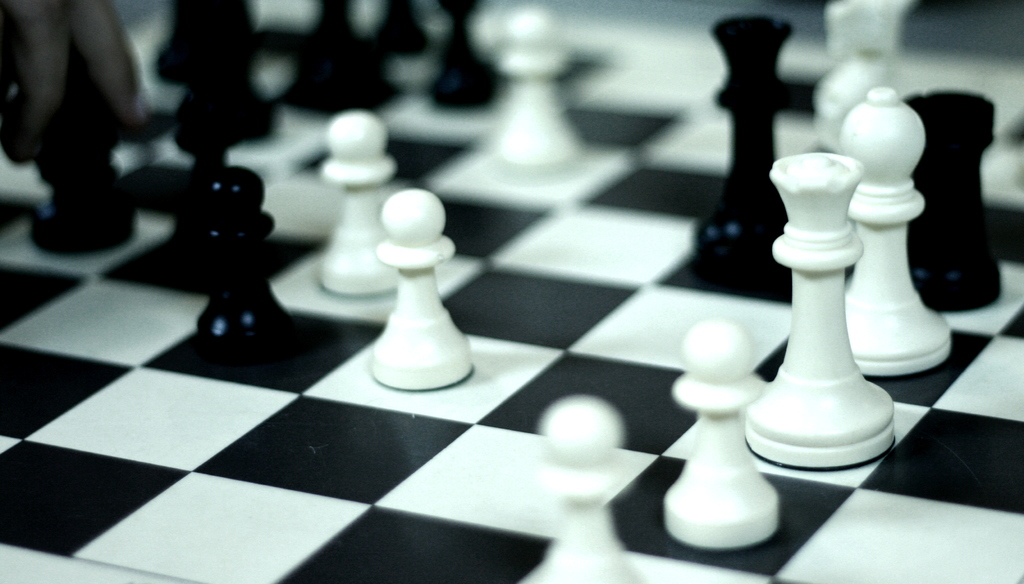person: (0, 0, 188, 253)
